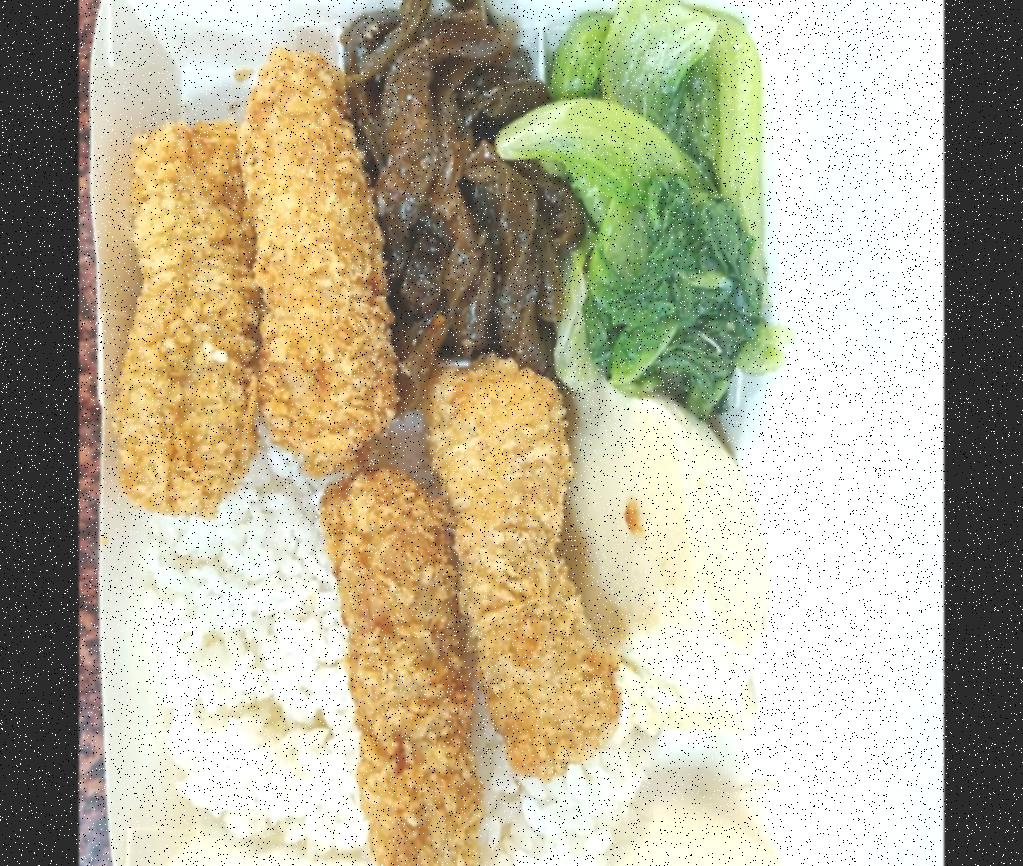box: (84, 0, 810, 866)
fried spanish mackerel: (326, 356, 621, 866), (110, 44, 399, 515)
side dish: (567, 9, 764, 392), (580, 377, 760, 740), (375, 0, 543, 356)
white rice: (151, 407, 629, 866)
